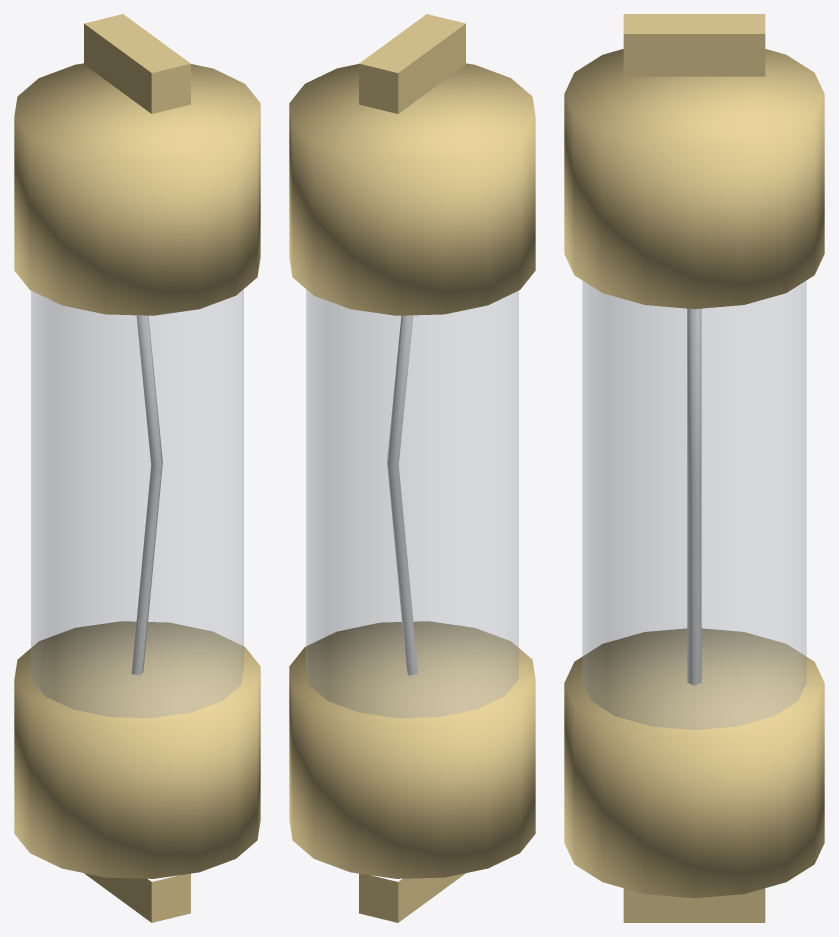
File: fuse.glb
3 views of the same model, side by side, from view 1: azimuth 30°, elevation 25°; view 2: azimuth 150°, elevation 25°; view 3: azimuth 270°, elevation 25° (orthographic). The views are drawn at different scales.
Parts seen in each view (by area): view 1: Fuse; view 2: Fuse; view 3: Fuse.
Boxes of the visible parts, box(x1,y1,x2,y2) form: Fuse: box(14, 14, 260, 922); Fuse: box(289, 14, 535, 922); Fuse: box(564, 14, 824, 922).
Bounding box in the file's own units: 0.044 × 0.166 × 0.044.
